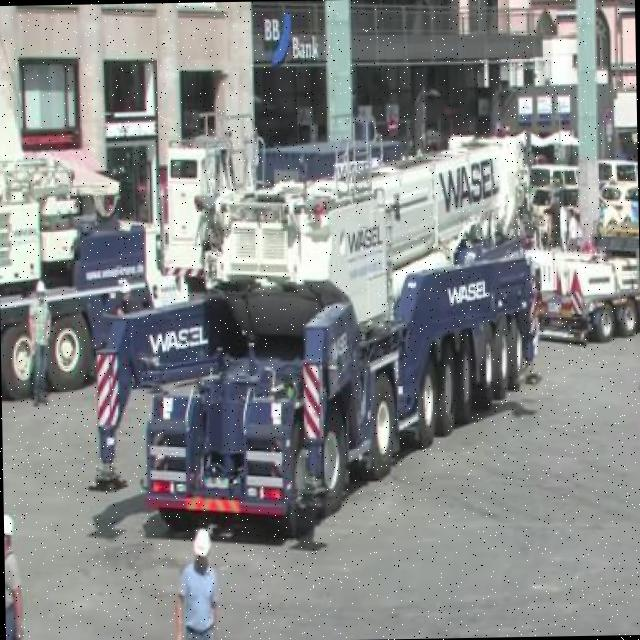Mobile Crane: (84, 132, 540, 534)
